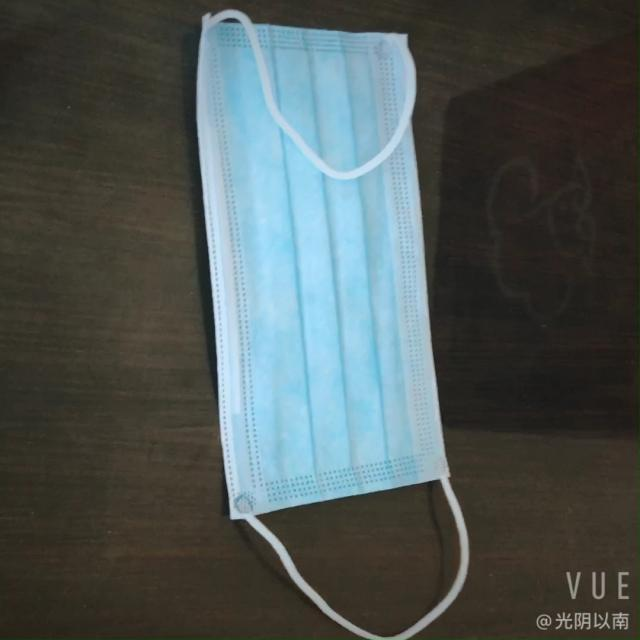non-organic waste: (173, 21, 441, 538)
